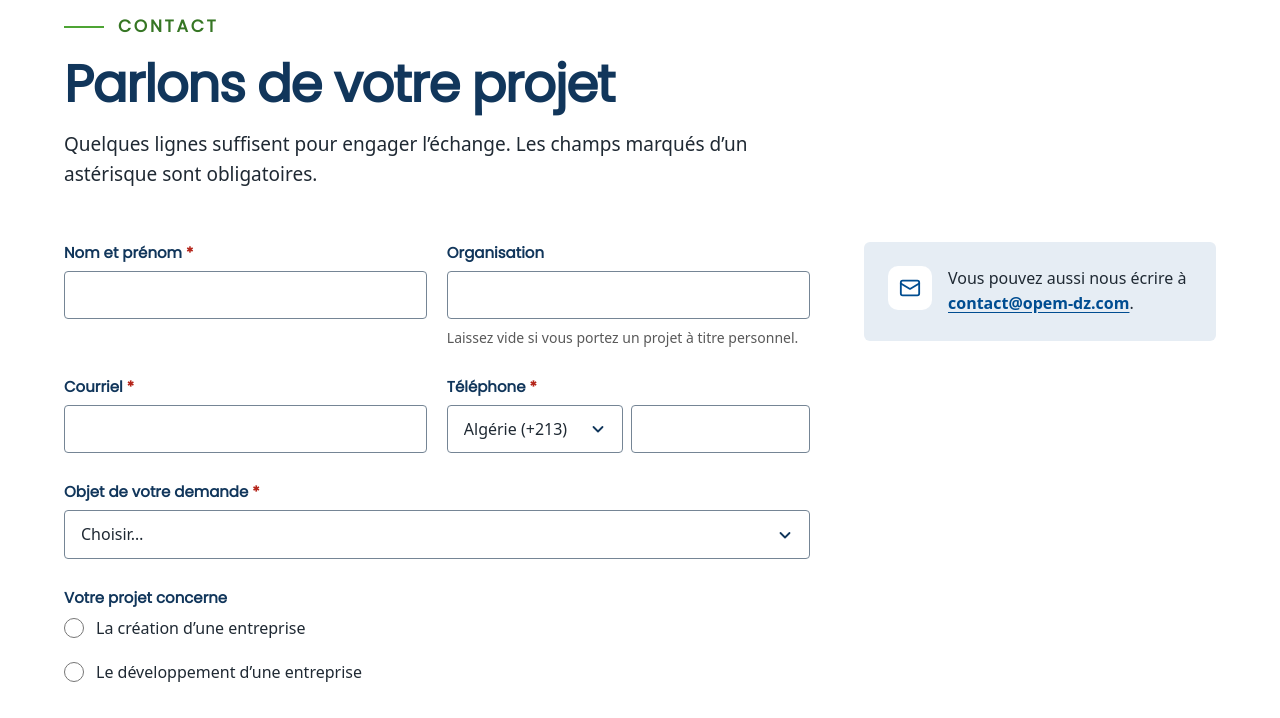
Formulaire 1 : demande de rendez-vous › sans créneau : l’autre message de confirmation
Type "Amina Benali" into the field labelled "Nom et prénom*" at (245, 295), box [64,271,427,319]
Type "amina@exemple.dz" into the field labelled "Courriel*" at (245, 429), box [64,405,427,453]
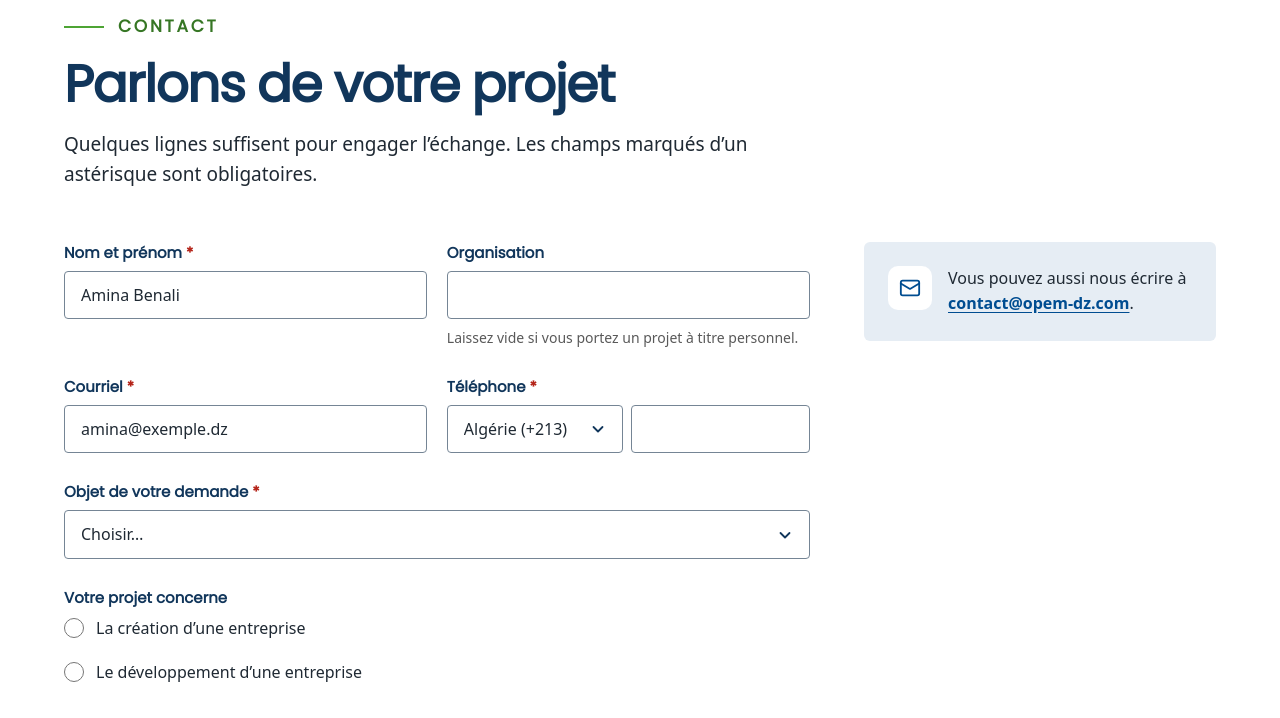
Type "551234567" into the field labelled "Téléphone*" at (720, 429), box [631,405,810,453]
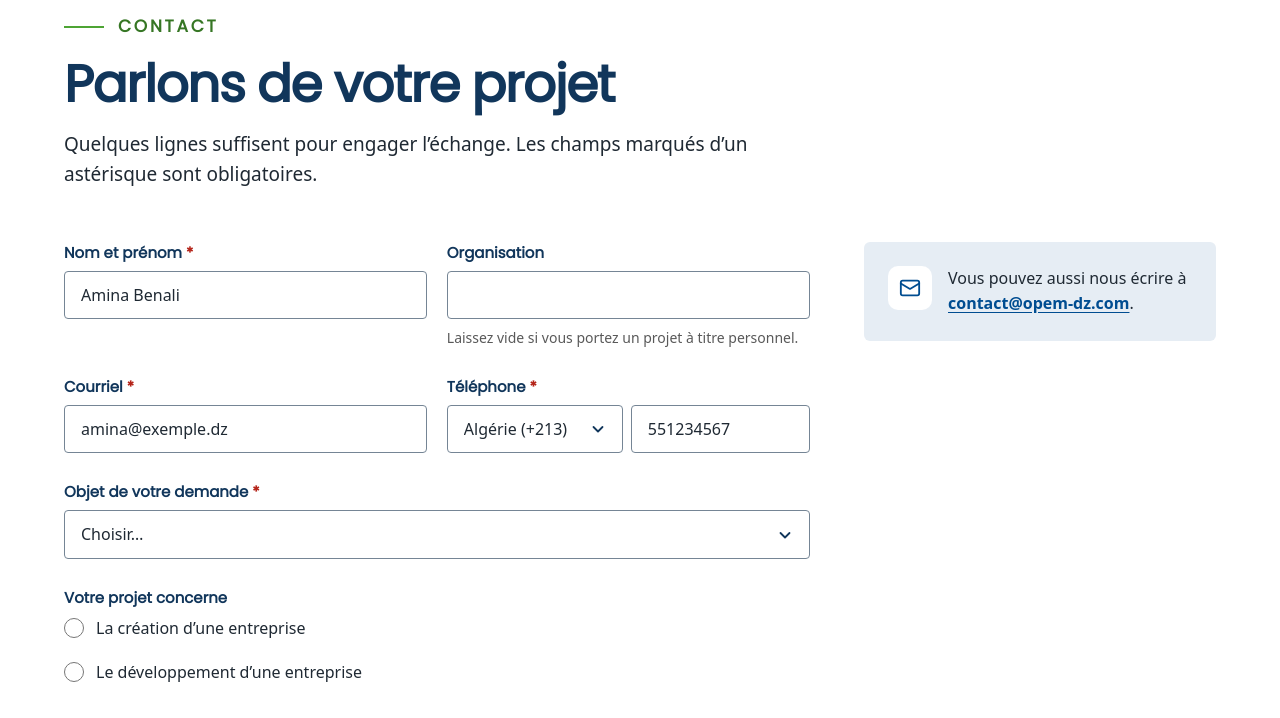
Select "IA appliquée" in the dropdown labelled "Objet de votre demande*" at (437, 535), box [64,510,810,559]
(page scrolled)
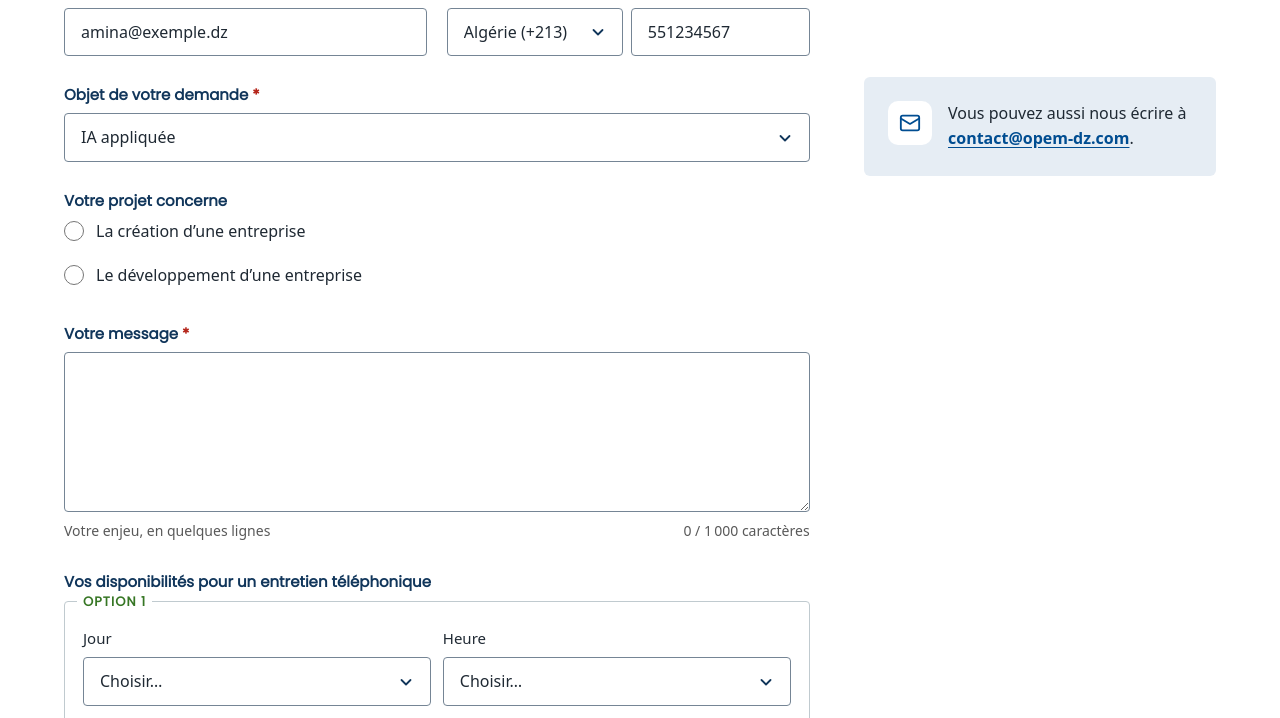
Type "Un premier échange." into the text box labelled "Votre message*" at (437, 432), box [64,352,810,512]
(page scrolled)
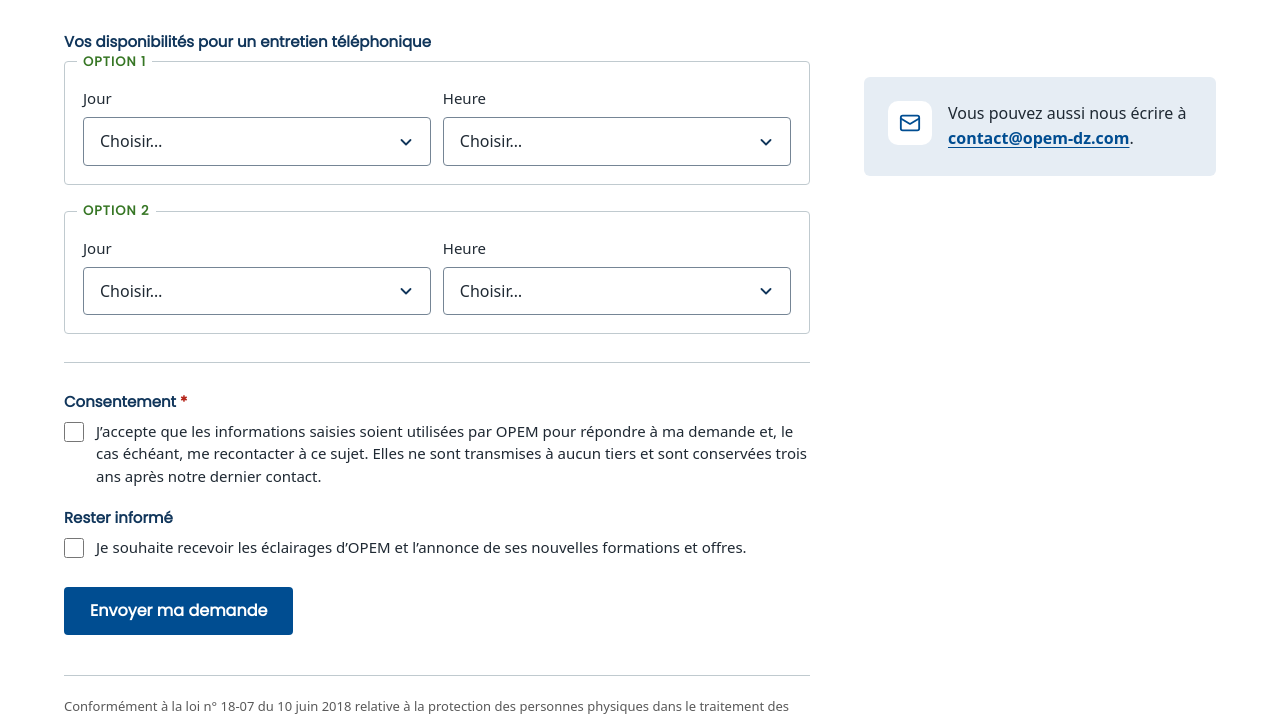
Click the checkbox labelled "J’accepte que les informations saisies" at (74, 432), box [64,422,84,442]
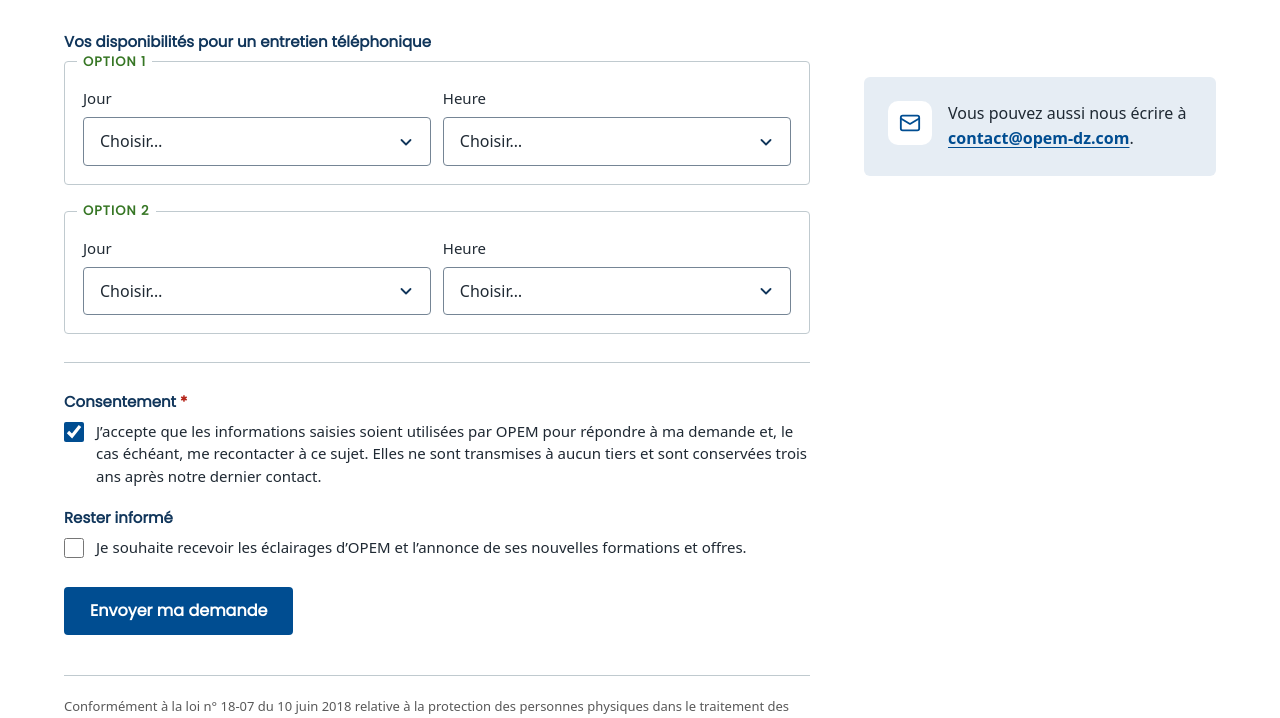
Click the button "Envoyer ma demande" at (179, 611), box [64,587,293,635]
(page scrolled)
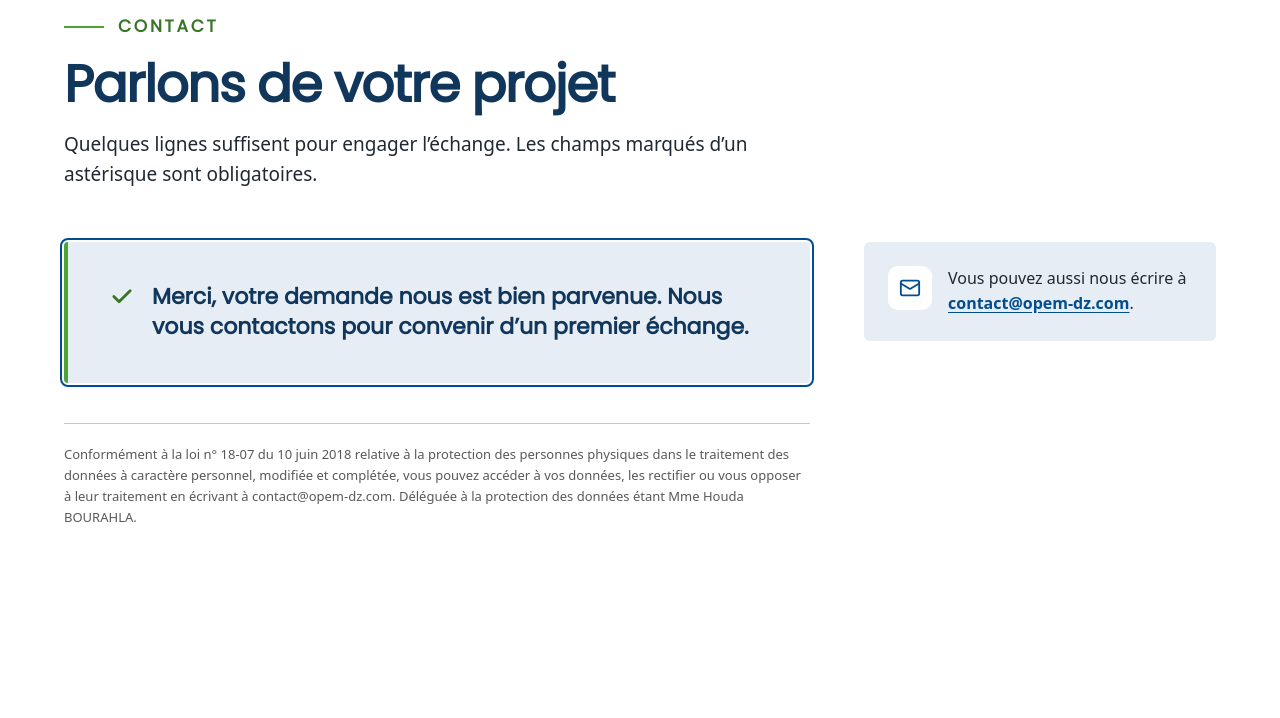
expect the text "Merci, votre demande nous est bien parvenue. Nous vous contactons pour convenir d’un premier échange." is shown: met, box [152,281,749,342]
